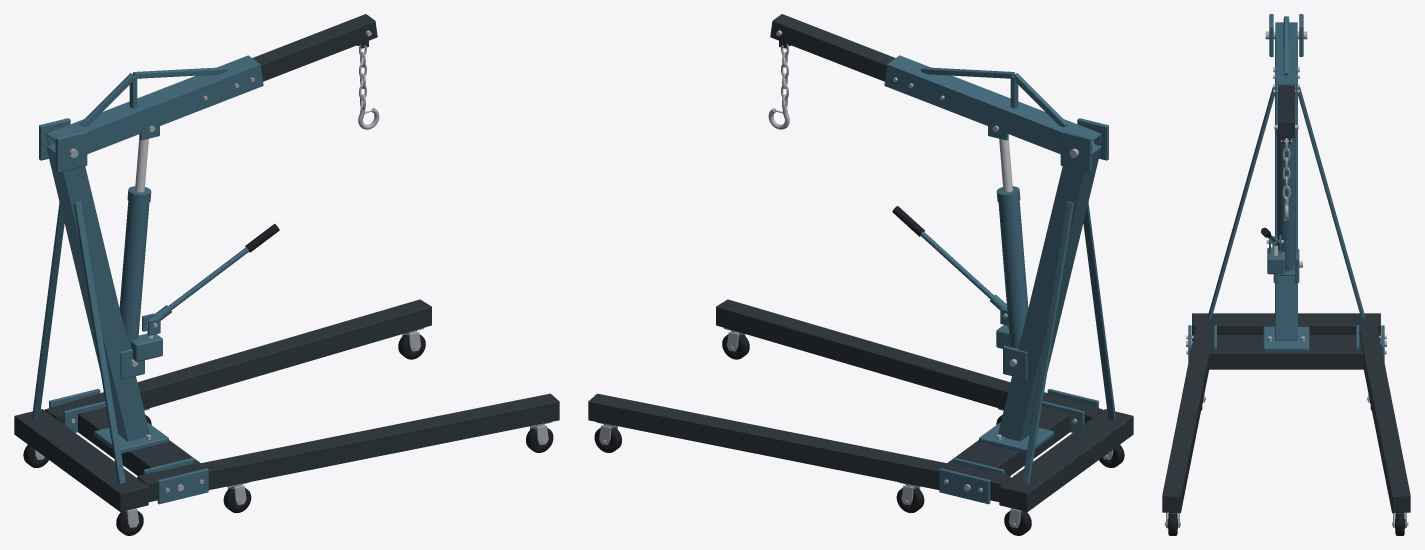
The picture shows the model from 3 angles, left to right: view 1: azimuth 30°, elevation 25°; view 2: azimuth 150°, elevation 25°; view 3: azimuth 270°, elevation 25°; orthographic projection. The views are drawn at different scales.
Visible parts, largest first — view 1: Long forward box leg -1, Long forward box leg 1, Inclined single mast, Outer hollow boom sleeve, Rear transverse base, Nested boom extension, Main hydraulic cylinder, Narrow rear mast brace -1, Mast base bridge, Narrow rear mast brace 1, Leg folding cheek (-1, -1), Upper boom pivot cheek -1 (+3 smaller); view 2: Long forward box leg 1, Long forward box leg -1, Inclined single mast, Outer hollow boom sleeve, Rear transverse base, Nested boom extension, Main hydraulic cylinder, Narrow rear mast brace 1, Mast base bridge, Narrow rear mast brace -1, Leg folding cheek (1, 1), Upper boom pivot cheek 1 (+3 smaller); view 3: Mast base bridge, Long forward box leg -1, Long forward box leg 1, Rear transverse base, Inclined single mast, Main hydraulic cylinder, Outer hollow boom sleeve, Narrow rear mast brace -1, Narrow rear mast brace 1, Nested boom extension, Mast bolted foot plate, Pump lower casting.
Part boxes in pixels (x1,y1,x2,y2): Long forward box leg -1: (137,393,559,501); Long forward box leg 1: (44,299,431,423); Inclined single mast: (46,143,149,441); Outer hollow boom sleeve: (46,55,263,154); Rear transverse base: (14,409,148,511); Nested boom extension: (252,14,377,81); Main hydraulic cylinder: (119,201,149,348); Narrow rear mast brace -1: (74,201,125,484); Mast base bridge: (78,407,200,475); Narrow rear mast brace 1: (31,202,64,420); Leg folding cheek (-1, -1): (157,468,208,504); Upper boom pivot cheek -1: (55,130,87,172); Long forward box leg 1: (588,393,1010,501); Long forward box leg -1: (716,299,1103,423); Inclined single mast: (998,143,1101,441); Outer hollow boom sleeve: (884,55,1101,154); Rear transverse base: (999,409,1133,511); Nested boom extension: (770,14,895,81); Main hydraulic cylinder: (998,201,1028,348); Narrow rear mast brace 1: (1022,201,1073,484); Mast base bridge: (947,407,1069,475); Narrow rear mast brace -1: (1083,202,1116,420); Leg folding cheek (1, 1): (939,468,990,504); Upper boom pivot cheek 1: (1060,130,1092,172); Mast base bridge: (1209,335,1363,369); Long forward box leg -1: (1162,324,1213,513); Long forward box leg 1: (1359,324,1410,513); Rear transverse base: (1192,313,1380,340); Inclined single mast: (1275,37,1297,340); Main hydraulic cylinder: (1277,136,1295,263); Outer hollow boom sleeve: (1275,22,1297,104); Narrow rear mast brace -1: (1207,87,1274,319); Narrow rear mast brace 1: (1298,87,1365,319); Nested boom extension: (1278,85,1294,137); Mast bolted foot plate: (1263,326,1309,351); Pump lower casting: (1267,247,1284,274).
Bounding box in the file's own units: 1.69 × 1.51 × 0.9193.
